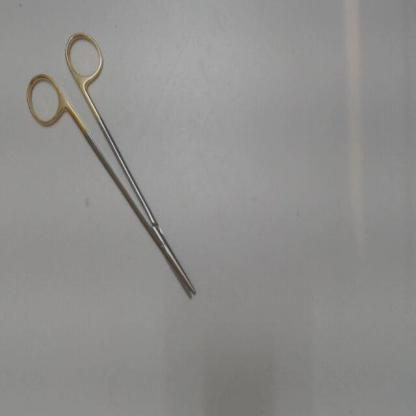7 Metzenbaum Scissors: (21, 25, 201, 306)
